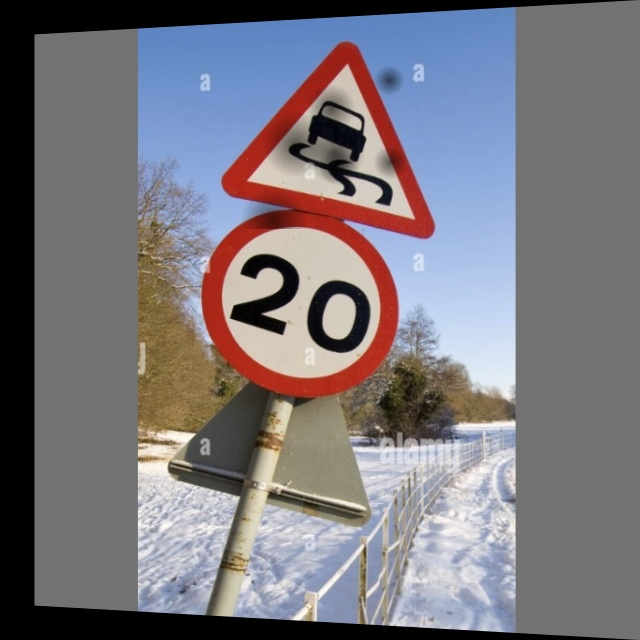Slippery_Road: (228, 38, 430, 229)
